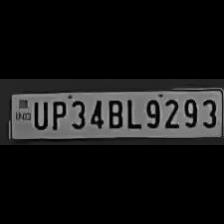2: (160, 95, 180, 129)
3: (68, 97, 86, 130), (200, 96, 218, 128)
4: (88, 96, 104, 130)
9: (142, 96, 160, 128), (180, 96, 198, 128)
B: (105, 96, 123, 130)
L: (124, 96, 140, 130)
P: (48, 98, 66, 130)
U: (29, 98, 47, 130)
